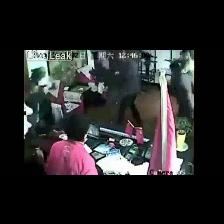person: (46, 115, 97, 174)
